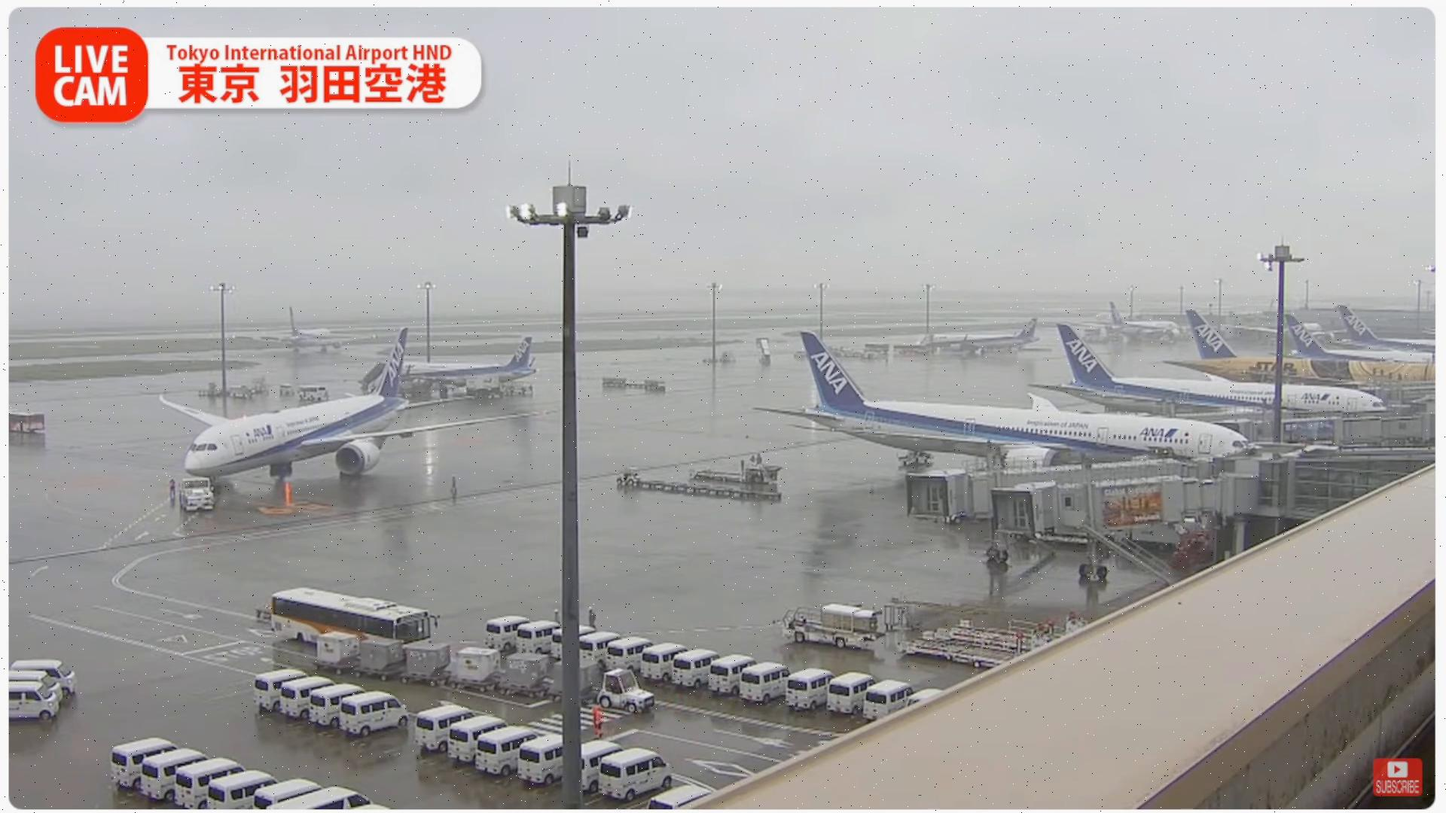APS: (179, 476, 215, 511)
Aerobridge: (904, 455, 1210, 522), (991, 474, 1261, 535)
Airplane: (158, 326, 561, 478)
JCPL: (924, 615, 1087, 656), (895, 630, 1024, 671)
Skyloader: (778, 603, 887, 649)
Window: (1292, 458, 1433, 516)
